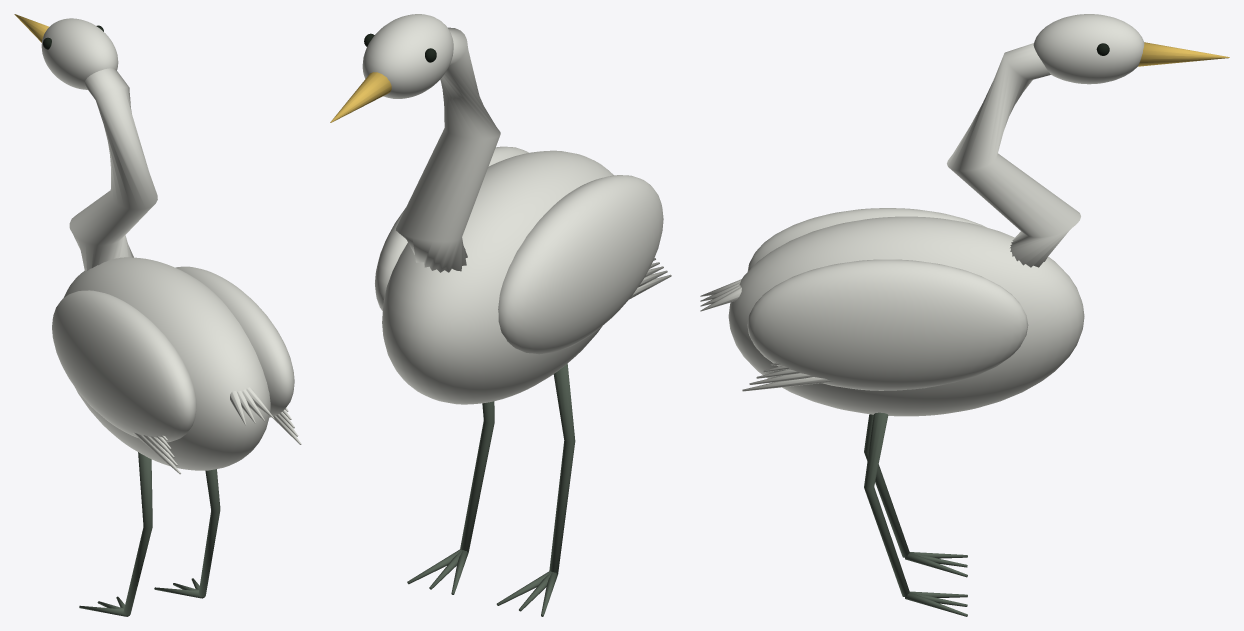
File: egret.glb
3 views of the same model, side by side, from view 1: azimuth 30°, elevation 25°; view 2: azimuth 150°, elevation 25°; view 3: azimuth 270°, elevation 25° (orthographic). The views are drawn at different scales.
Parts seen in each view (by area): view 1: Egret torso, Folded wing, S curved neck, Folded wing.001, Egret head, Wading leg, Wading leg.001; view 2: Egret torso, Folded wing, S curved neck, Egret head, Wading leg, Folded wing.001, Wading leg.001, Long pointed beak; view 3: Folded wing.001, Egret torso, S curved neck, Egret head, Folded wing, Wading leg.001, Long pointed beak, Wading leg.
Part boxes in pixels (<box>): Egret torso: <box>63,257,270,470</box>; Folded wing: <box>52,290,196,442</box>; S curved neck: <box>69,68,157,270</box>; Folded wing.001: <box>175,266,294,417</box>; Egret head: <box>41,18,118,89</box>; Wading leg: <box>123,452,152,615</box>; Wading leg.001: <box>198,469,220,597</box>; Egret torso: <box>382,150,613,404</box>; Folded wing: <box>498,175,663,354</box>; S curved neck: <box>396,27,500,272</box>; Egret head: <box>362,14,453,98</box>; Wading leg: <box>549,363,575,573</box>; Folded wing.001: <box>375,146,528,311</box>; Wading leg.001: <box>460,401,494,552</box>; Long pointed beak: <box>330,72,391,122</box>; Folded wing.001: <box>747,259,1028,390</box>; Egret torso: <box>728,216,1084,416</box>; S curved neck: <box>947,43,1080,267</box>; Egret head: <box>1033,14,1144,84</box>; Folded wing: <box>747,208,986,271</box>; Wading leg.001: <box>864,412,909,596</box>; Long pointed beak: <box>1138,42,1229,66</box>; Wading leg: <box>864,414,909,557</box>.
Bounding box in the file's own units: 0.43 × 1.34 × 1.13.
